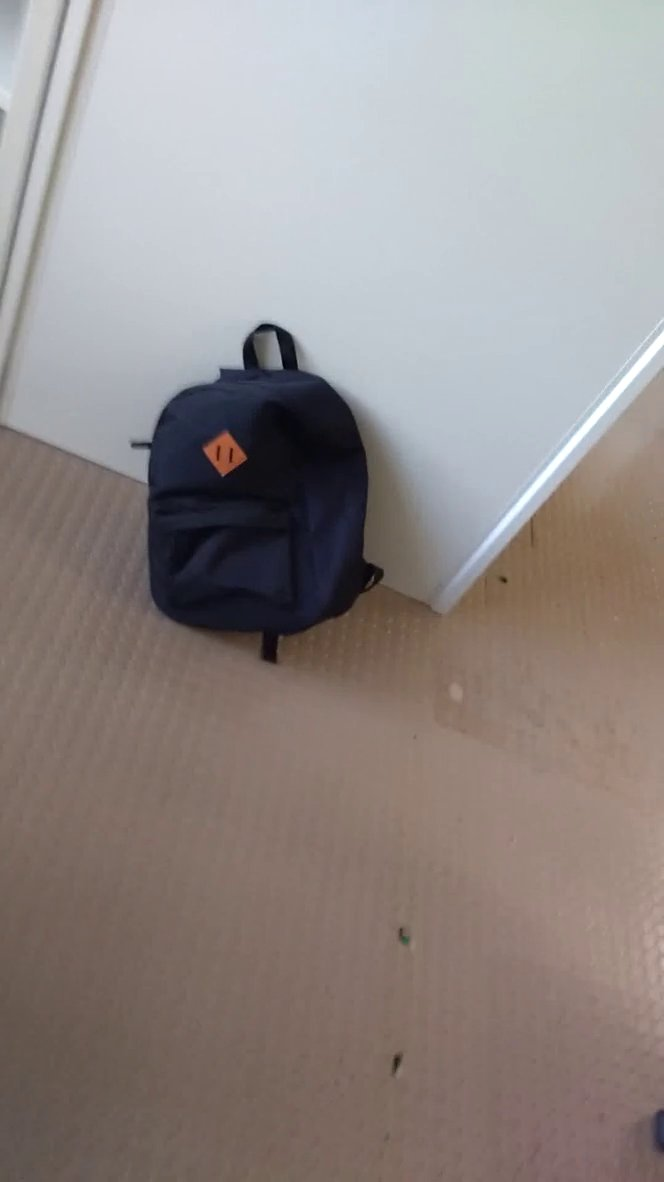bag: (114, 317, 409, 681)
